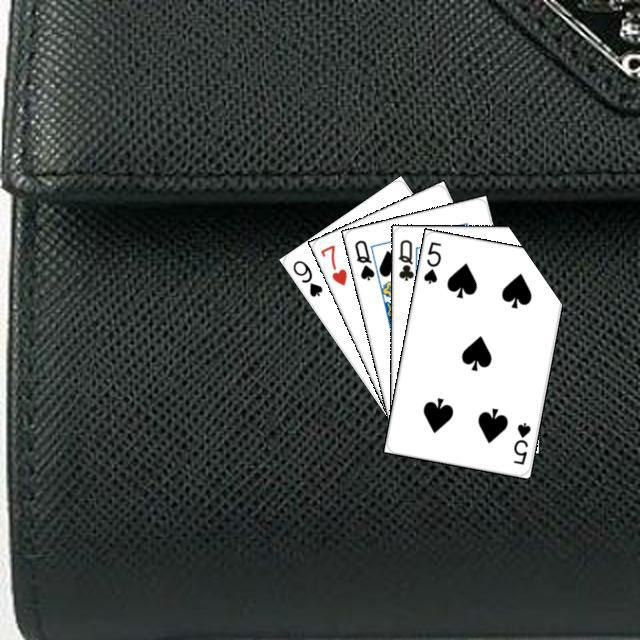5s: (418, 237, 443, 286), (508, 418, 532, 466)
7h: (315, 240, 349, 287)
9s: (288, 255, 324, 299)
Qc: (394, 234, 421, 287)
Qs: (350, 235, 376, 282)
